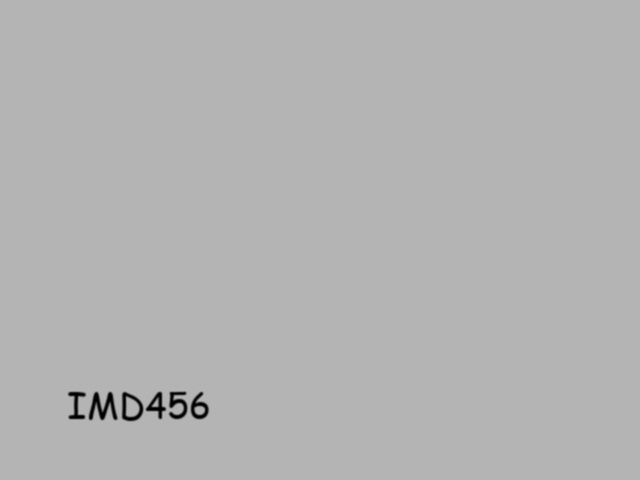OCR_AREA: (63, 387, 215, 425)
